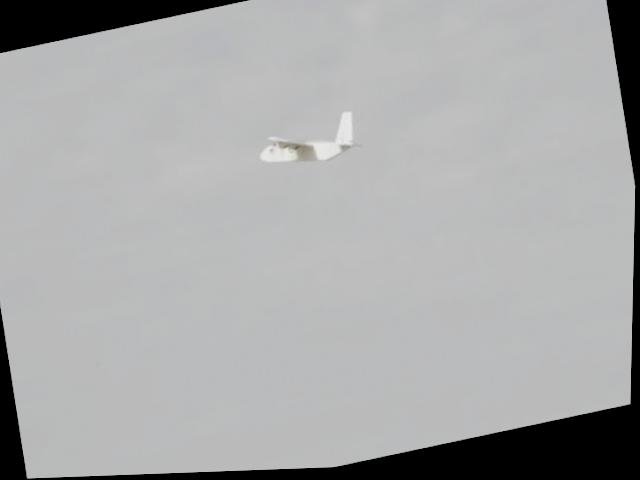uav: (248, 106, 368, 178)
